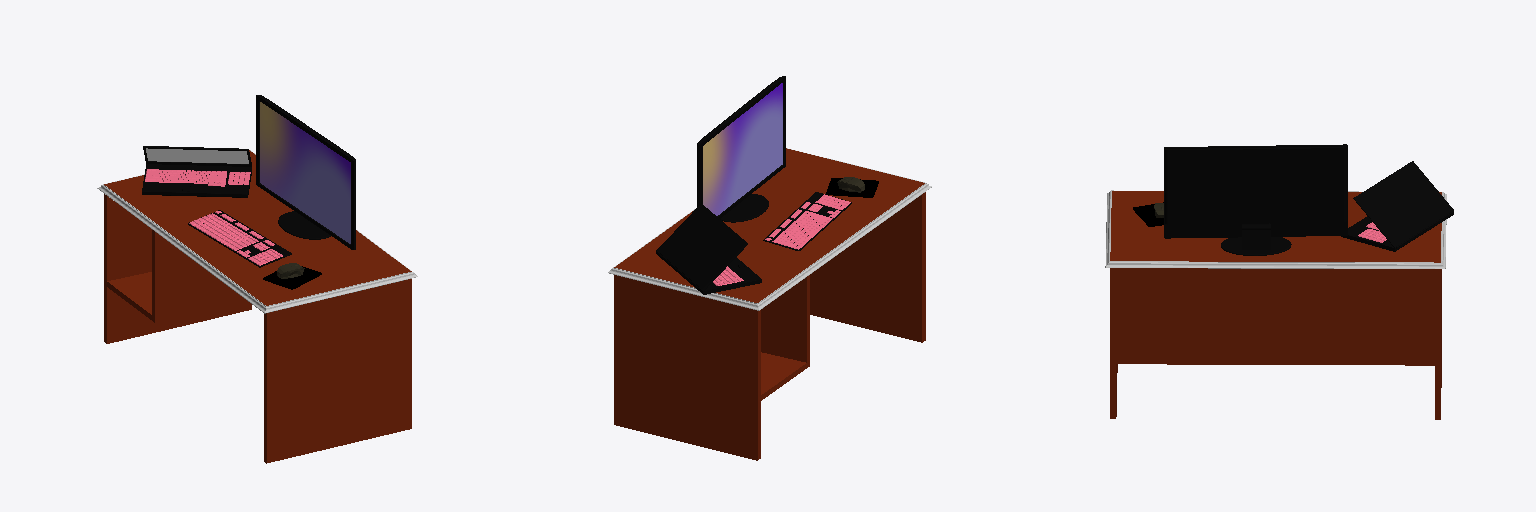
3 views of the same model, side by side, from view 1: azimuth 30°, elevation 25°; view 2: azimuth 150°, elevation 25°; view 3: azimuth 270°, elevation 25° (orthographic).
Parts seen in each view (by area): view 1: 7.002, 7.006, 7, 7.001, 7.005, 7.008, 7.007, 7.009, 7.004; view 2: 7.002, 7.006, 7, 7.001, 7.005, 7.007, 7.009, 7.004; view 3: 7.002, 7.006, 7, 7.001, 7.007.
Boxes of the visible parts, x1,y1,x2,y2 form: 7.002: [104, 150, 411, 463]; 7.006: [256, 95, 355, 249]; 7: [142, 146, 251, 197]; 7.001: [97, 150, 417, 313]; 7.005: [189, 211, 282, 265]; 7.008: [145, 169, 250, 186]; 7.007: [278, 211, 330, 239]; 7.009: [188, 210, 291, 267]; 7.004: [263, 266, 321, 289]; 7.002: [614, 148, 925, 460]; 7.006: [697, 76, 785, 218]; 7: [656, 203, 761, 294]; 7.001: [608, 148, 931, 310]; 7.005: [765, 194, 850, 249]; 7.007: [720, 194, 768, 222]; 7.009: [763, 192, 851, 250]; 7.004: [826, 178, 878, 197]; 7.002: [1110, 191, 1441, 419]; 7.006: [1164, 144, 1347, 238]; 7: [1341, 161, 1453, 251]; 7.001: [1105, 190, 1446, 268]; 7.007: [1221, 223, 1291, 255].
Size of the model in its own units: 1.17 by 1.84 by 2.27.
Materials: 7 (1 with a texture image).